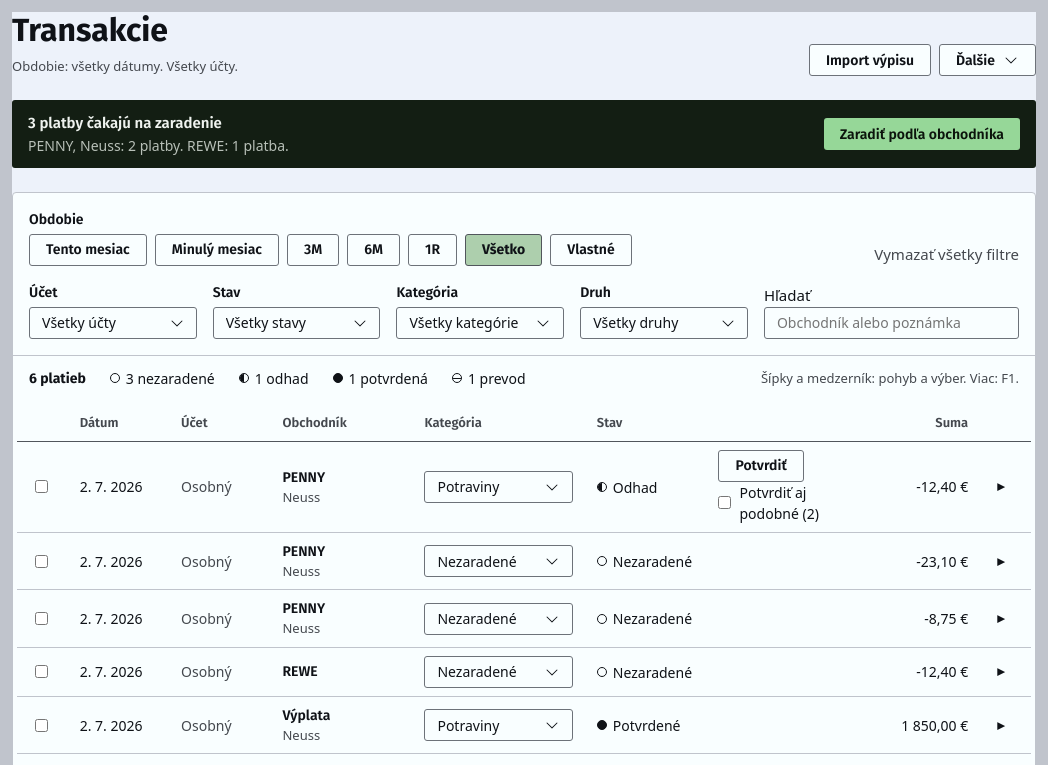
it: Transakcie in Kaliber r4 › writes a group button as merchant, place and count with the right form
This screenshot has width=1048, height=765.
Expected: the text "Výplata" is shown, [282,707,330,724]
Click the button "Zaradiť podľa obchodníka". click: (922, 134)
box: [824,118,1020,150]
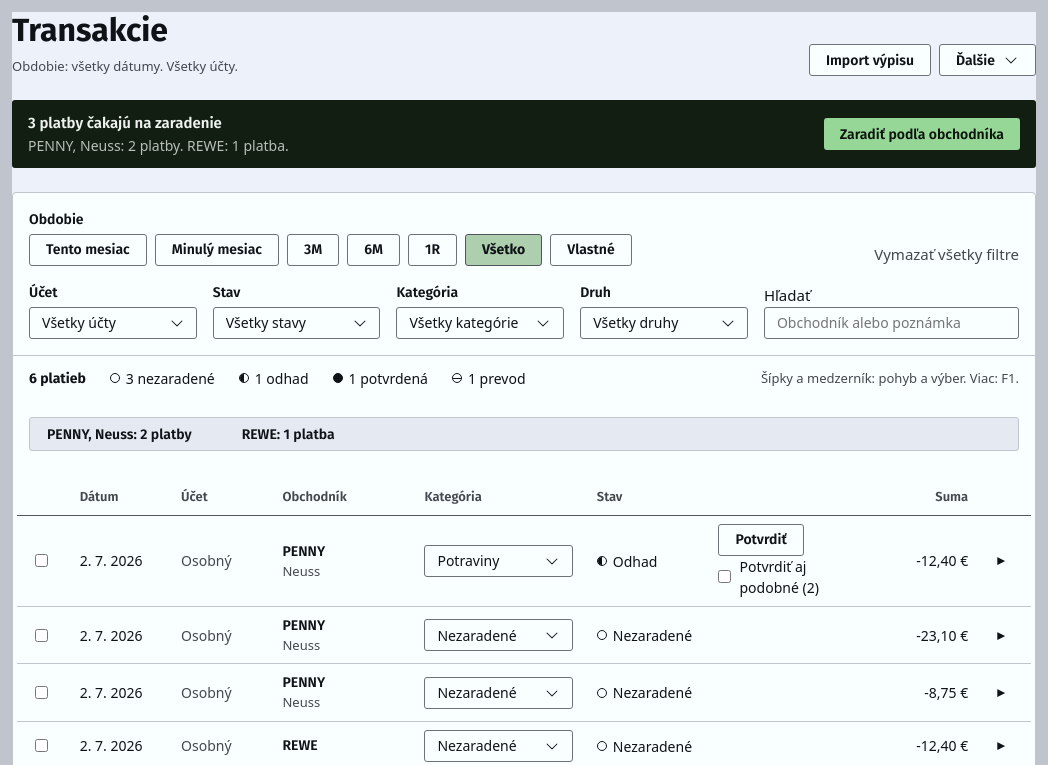
Expected: the button "PENNY, Neuss: 2 platby" is shown, [30,418,209,450]
Expected: the button "REWE: 1 platba" is shown, [225,418,352,450]
